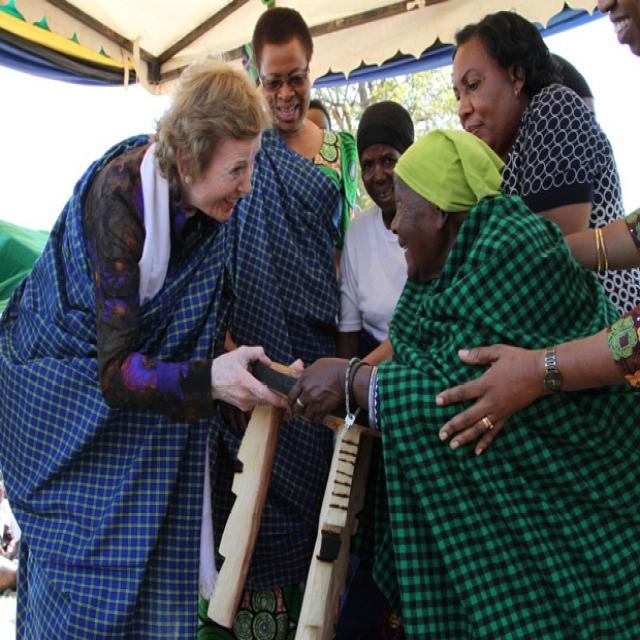body: (0, 44, 313, 639), (285, 124, 640, 637), (346, 11, 639, 366), (437, 1, 639, 462), (221, 1, 359, 640), (332, 95, 418, 363), (302, 99, 332, 134)
